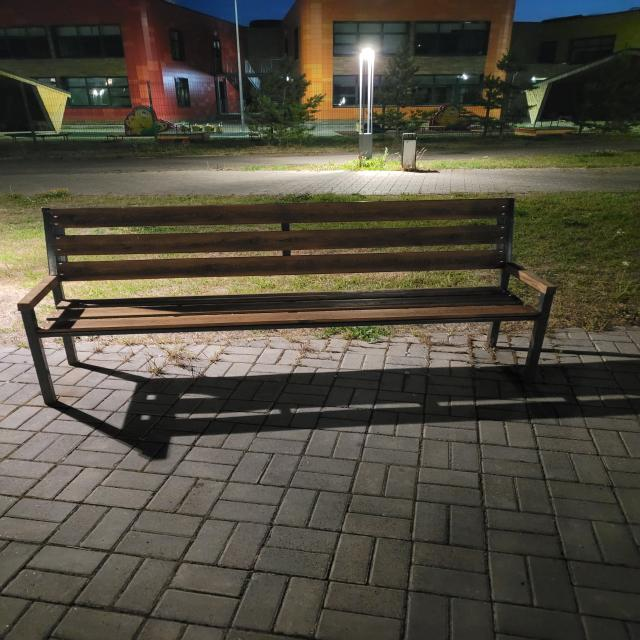Bench: (17, 198, 555, 404)
